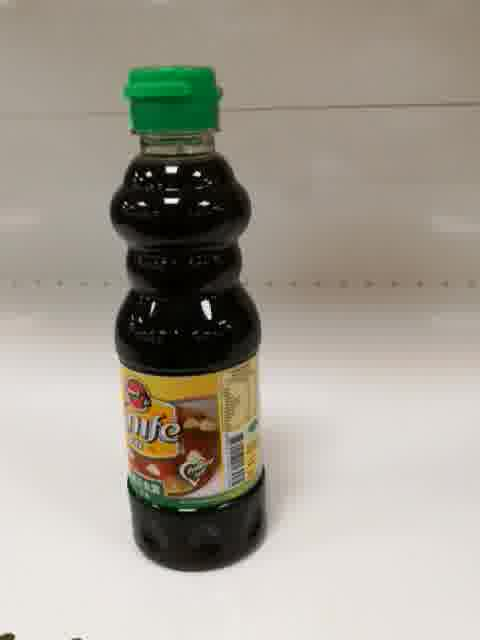cookingoil: (105, 64, 268, 579)
